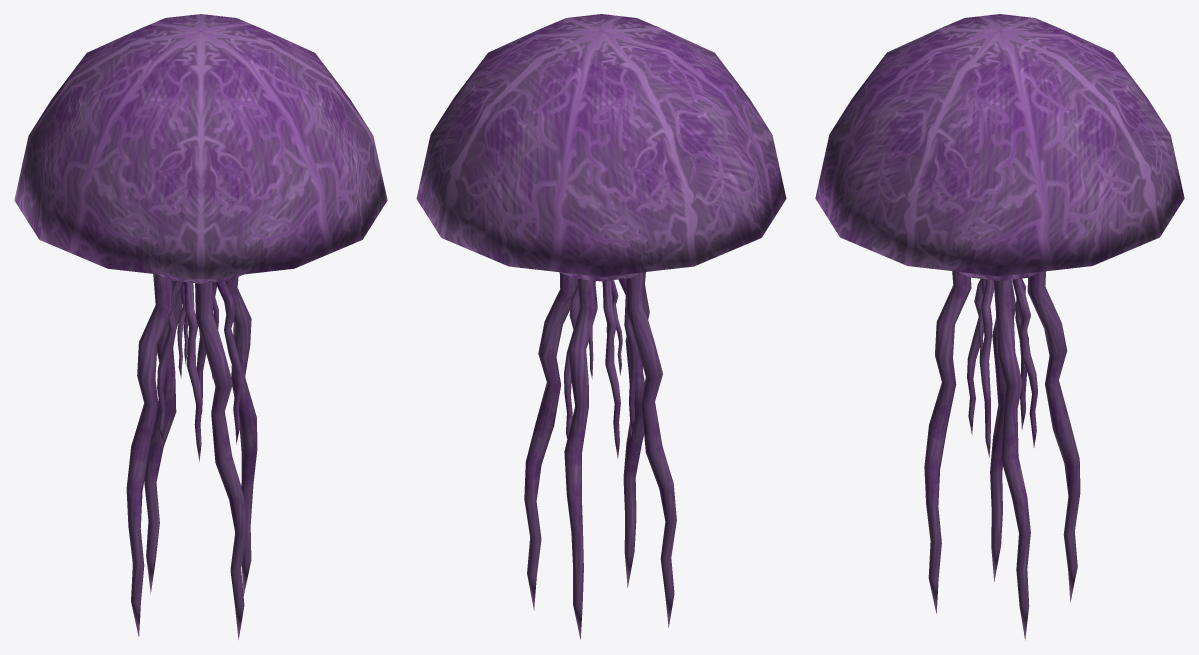
File: AguaViva.fbx
3 renders of one model, left to right at view 1: azimuth 30°, elevation 25°; view 2: azimuth 150°, elevation 25°; view 3: azimuth 270°, elevation 25°, orthographic.
Parts seen in each view (by area): view 1: BigJellyfish; view 2: BigJellyfish; view 3: BigJellyfish.
Boxes of the visible parts, left/top/right/bottom form: BigJellyfish: left=14, top=14, right=387, bottom=639; BigJellyfish: left=416, top=14, right=786, bottom=639; BigJellyfish: left=815, top=14, right=1184, bottom=640.
Bounding box in the file's own units: 284 × 494 × 284.
